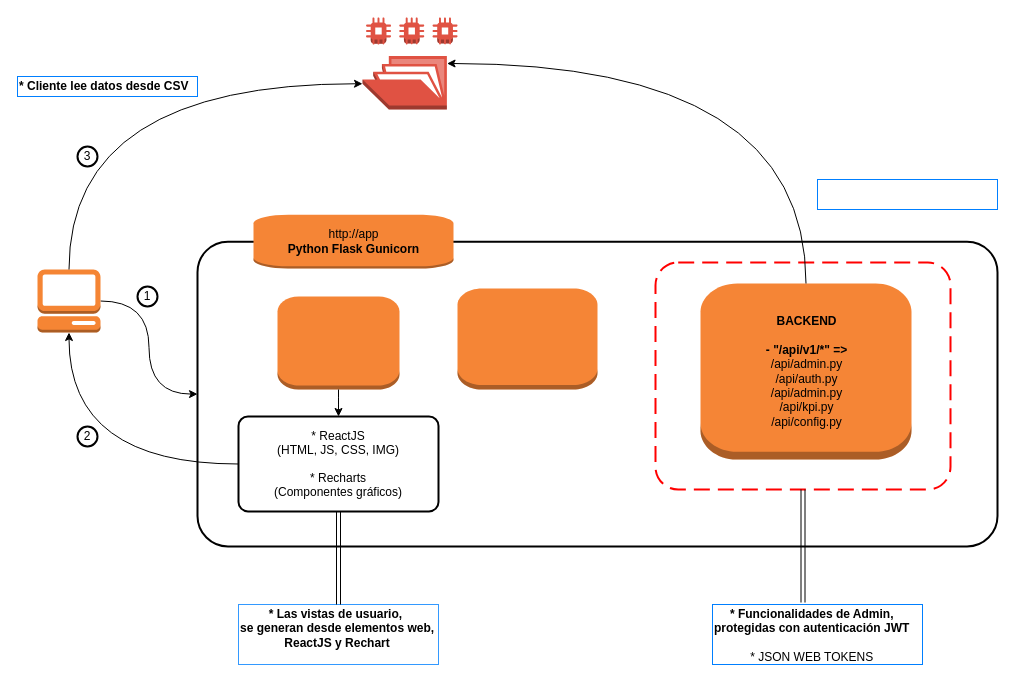
The diagram is 1016 pixels wide and 683 high, and some of its shapes have lost their labels. Here are the shapes that lost their labels. From the top down, the centre of each, then its label:
the point at 410,63: Amazon S3 con archivos CSV
the point at 907,194: * Admin envía archivos CSV hacia S3
the point at 338,343: FRONTEND - "/" => /home.py /api/config.py
the point at 527,339: API - "/api/v1/kpi/:id*" => /api/kpi.py /api/config.py
